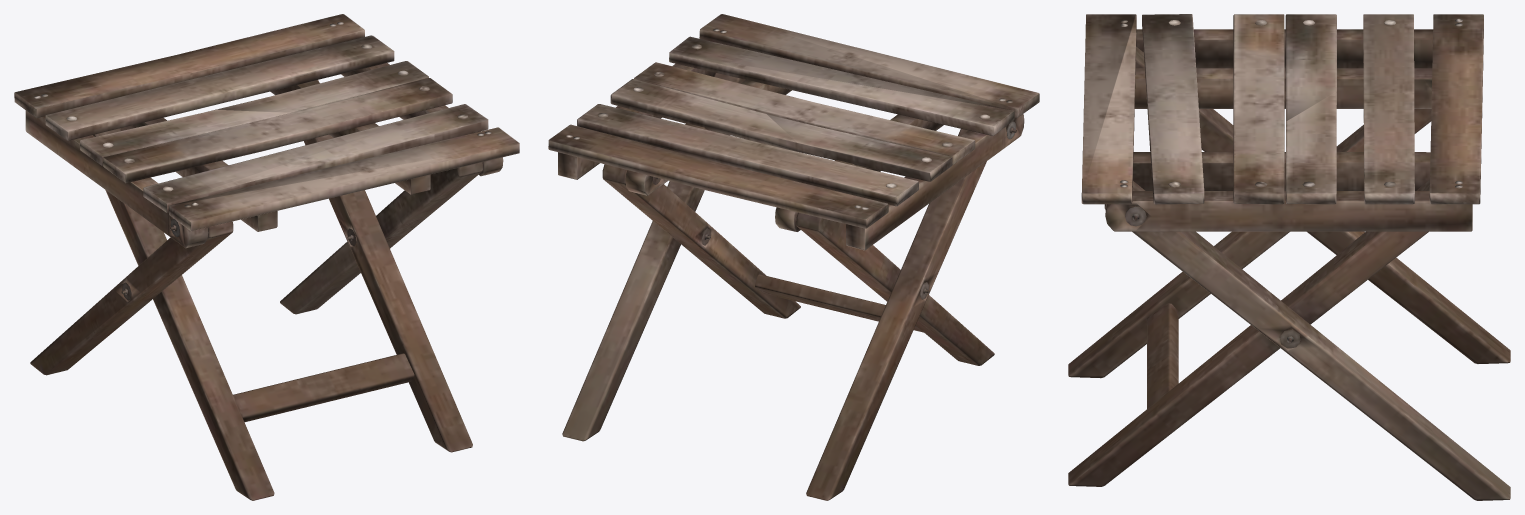
Rendered from folding_wooden_stool.glb.
3 renders of one model, left to right at view 1: azimuth 30°, elevation 25°; view 2: azimuth 150°, elevation 25°; view 3: azimuth 270°, elevation 25°, orthographic. The views are drawn at different scales.
Parts seen in each view (by area): view 1: folding_wooden_stool; view 2: folding_wooden_stool; view 3: folding_wooden_stool.
Boxes of the visible parts, x1,y1,x2,y2 form: folding_wooden_stool: [14, 14, 519, 500]; folding_wooden_stool: [548, 14, 1039, 500]; folding_wooden_stool: [1068, 14, 1510, 500].
Size of the model in its own units: 0.527 by 0.442 by 0.5471.
Materials: 1 (1 with a texture image).
